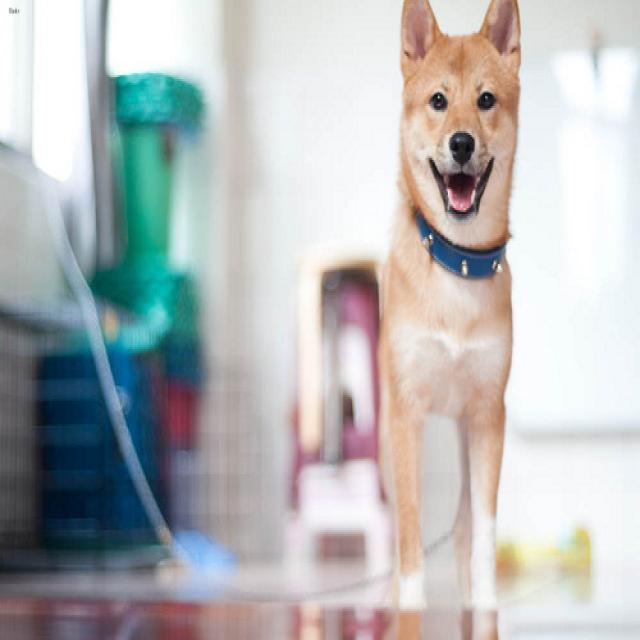dog-shiba_inu: (370, 2, 531, 636)
